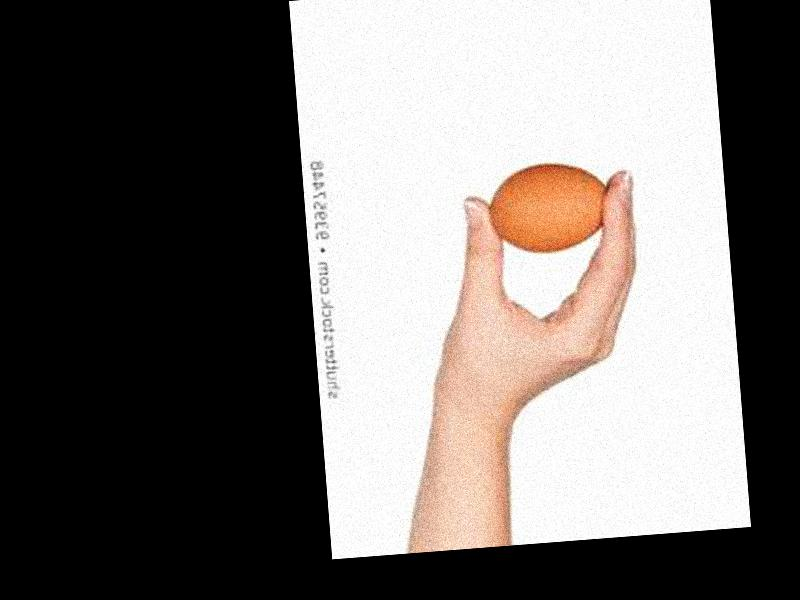Eggs: (485, 159, 617, 255)
